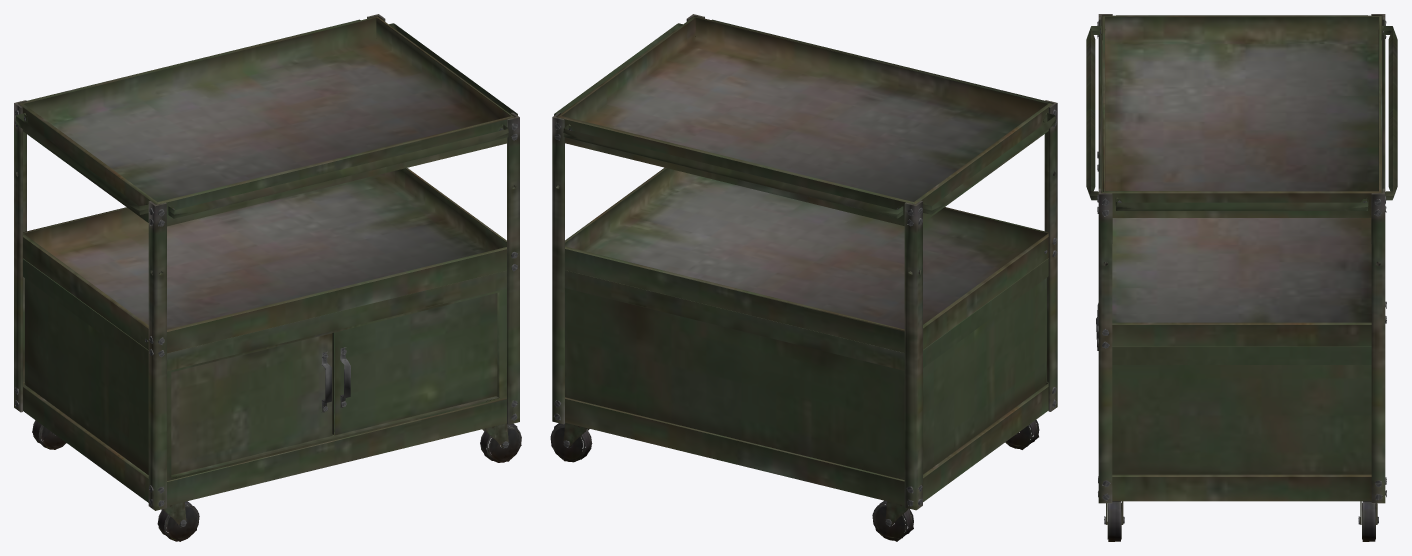
Rendered from industrial_storage_cart.glb.
The picture shows the model from 3 angles, left to right: view 1: azimuth 30°, elevation 25°; view 2: azimuth 150°, elevation 25°; view 3: azimuth 270°, elevation 25°; orthographic projection.
Parts seen in each view (by area): view 1: industrial_storage_cart; view 2: industrial_storage_cart; view 3: industrial_storage_cart.
Part boxes in pixels (left/top/right/bottom): industrial_storage_cart: left=14, top=14, right=521, bottom=541; industrial_storage_cart: left=550, top=14, right=1057, bottom=541; industrial_storage_cart: left=1086, top=14, right=1397, bottom=541.
Bounding box in the file's own units: 1.61 × 1.38 × 1.11.
1 material, 1 textured.
